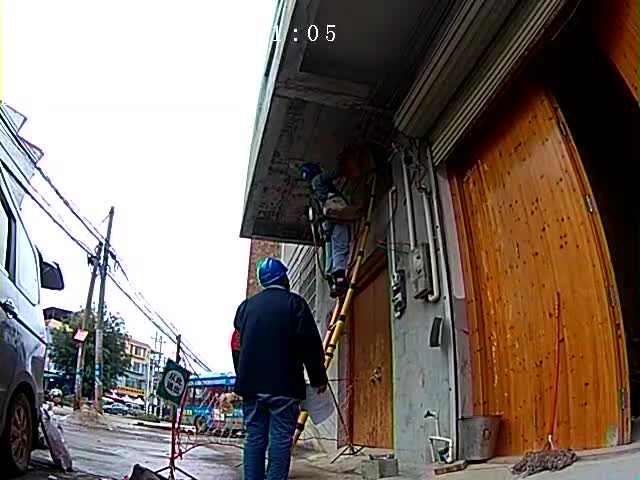halt: (260, 261, 293, 291)
